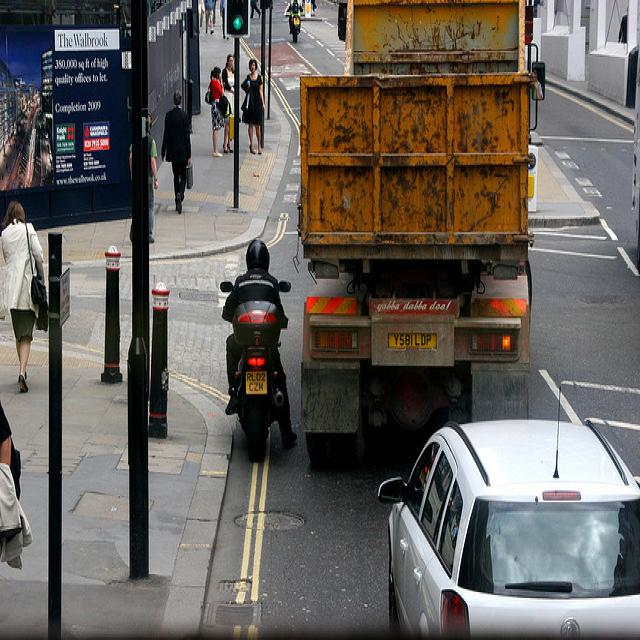motor: (225, 299, 297, 463), (289, 16, 302, 45)
